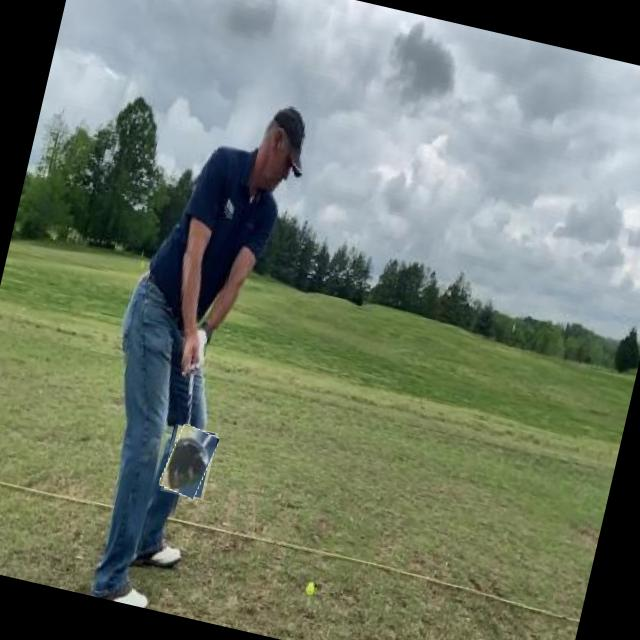club head: (160, 423, 218, 500)
